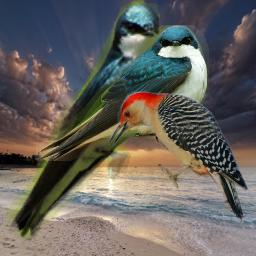Swallow: (6, 0, 169, 247), (36, 25, 209, 161)
Woodpecker: (108, 91, 251, 226)
